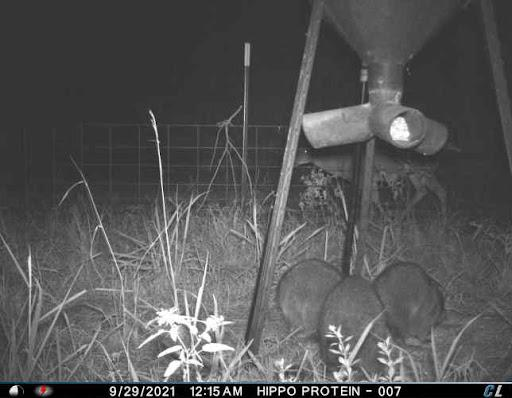Deer: (289, 132, 454, 230)
